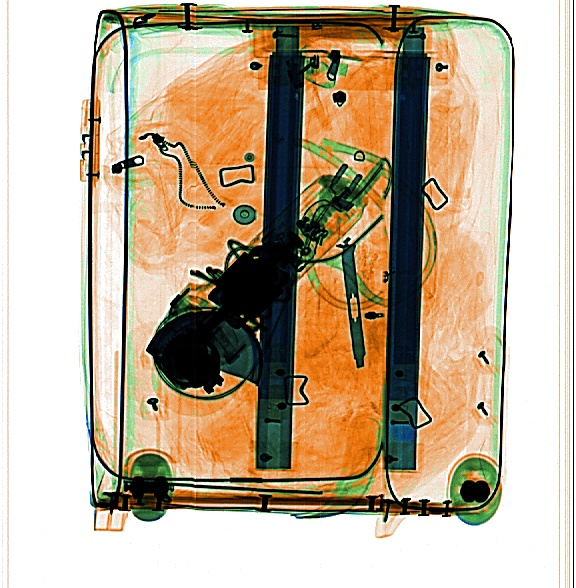grinder: (142, 146, 369, 405)
